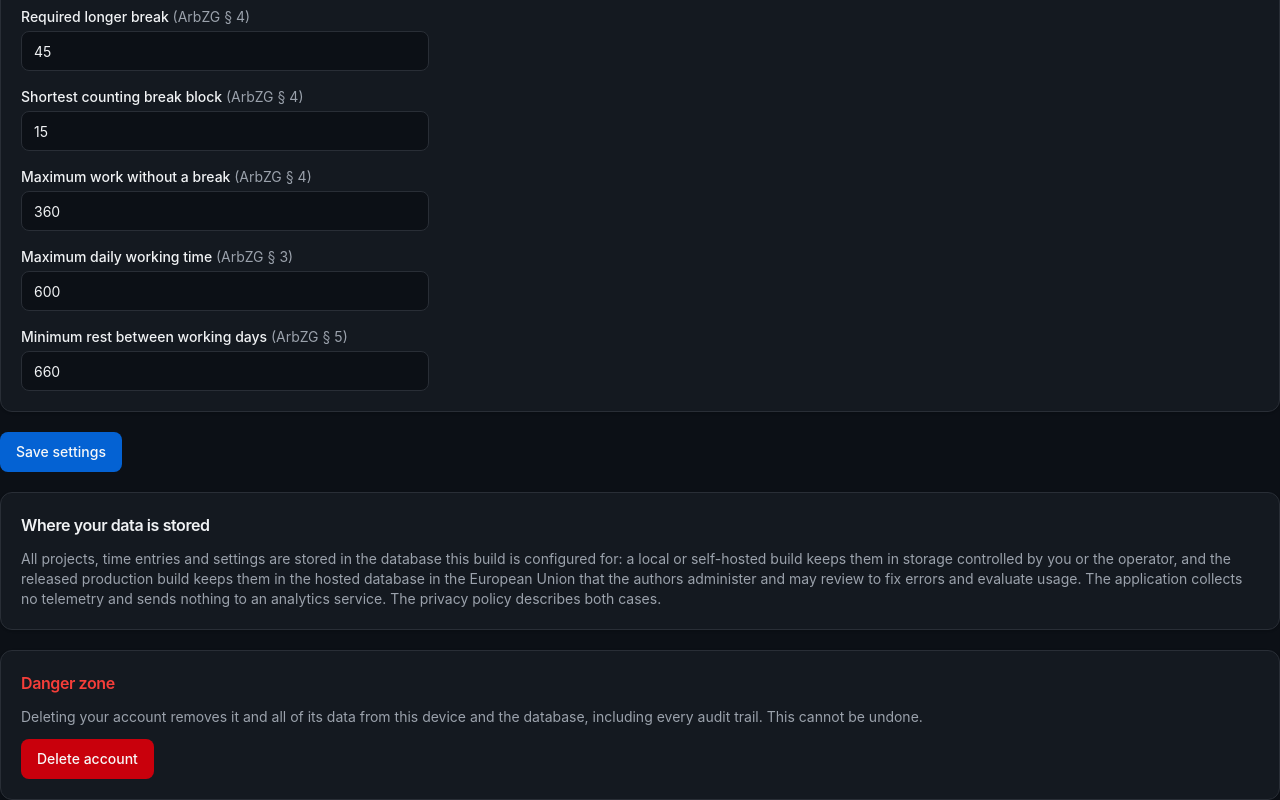
it: SettingsPage – danger zone › deletes nothing when the dialog is closed
(page scrolled)
Click the button "Delete account" at (87, 759), box [21, 739, 154, 779]
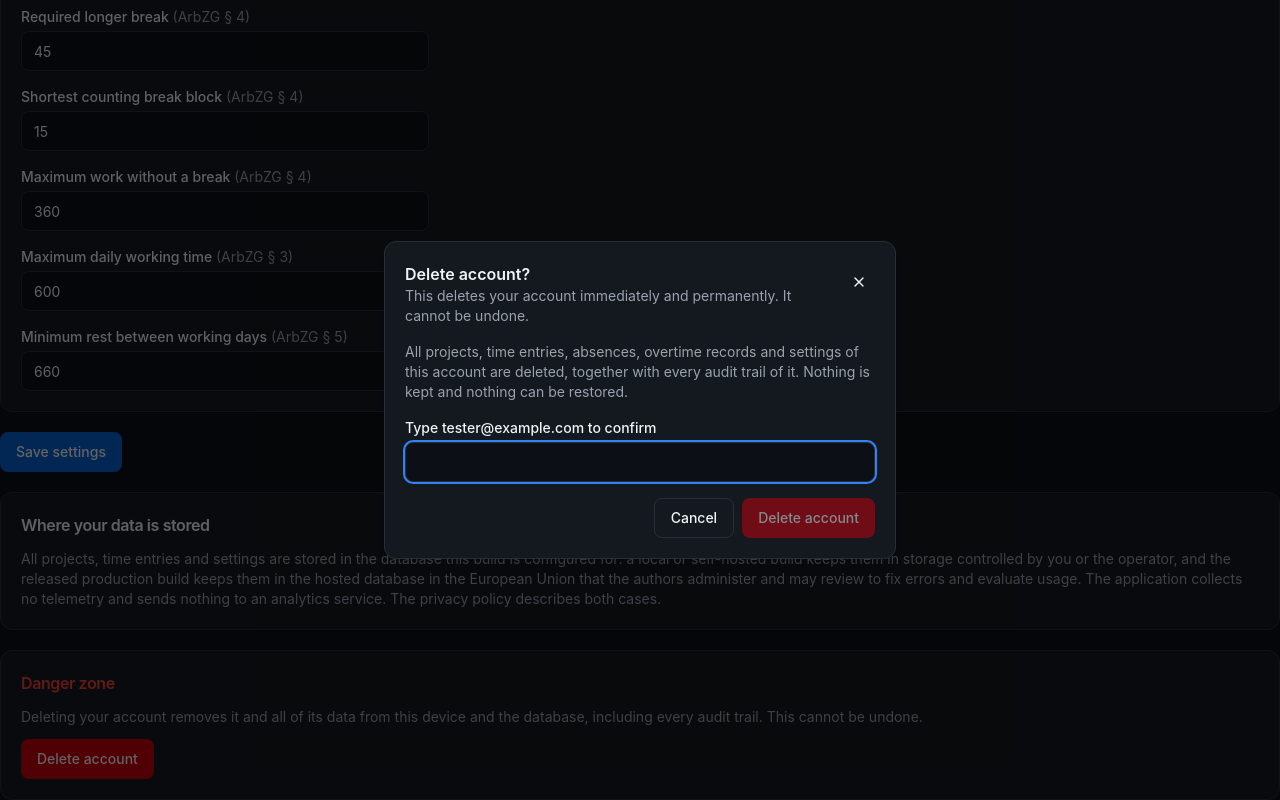
Type "tester@example.com" into the field labelled "Type tester@example.com to confirm" at (640, 462), box [405, 442, 875, 482]
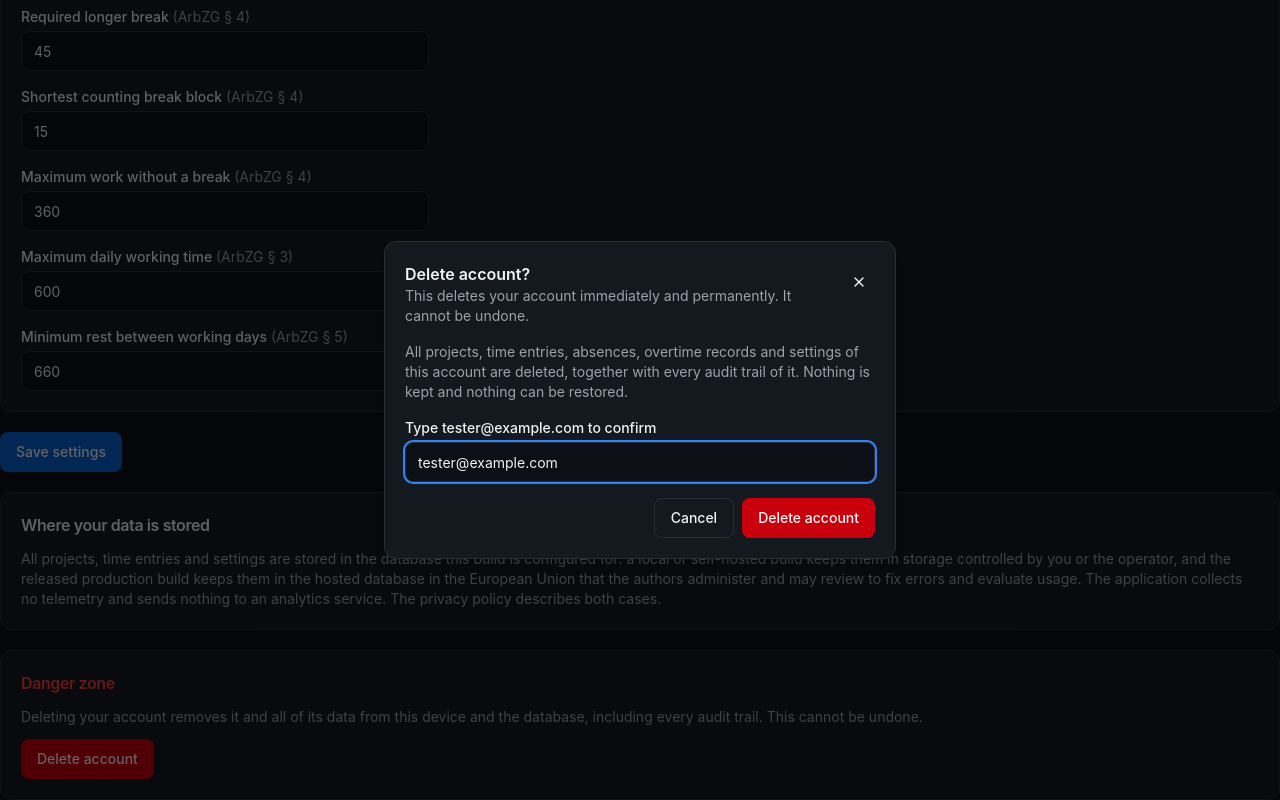
Click the button named "Close dialog" at (859, 282), box [842, 262, 875, 302]
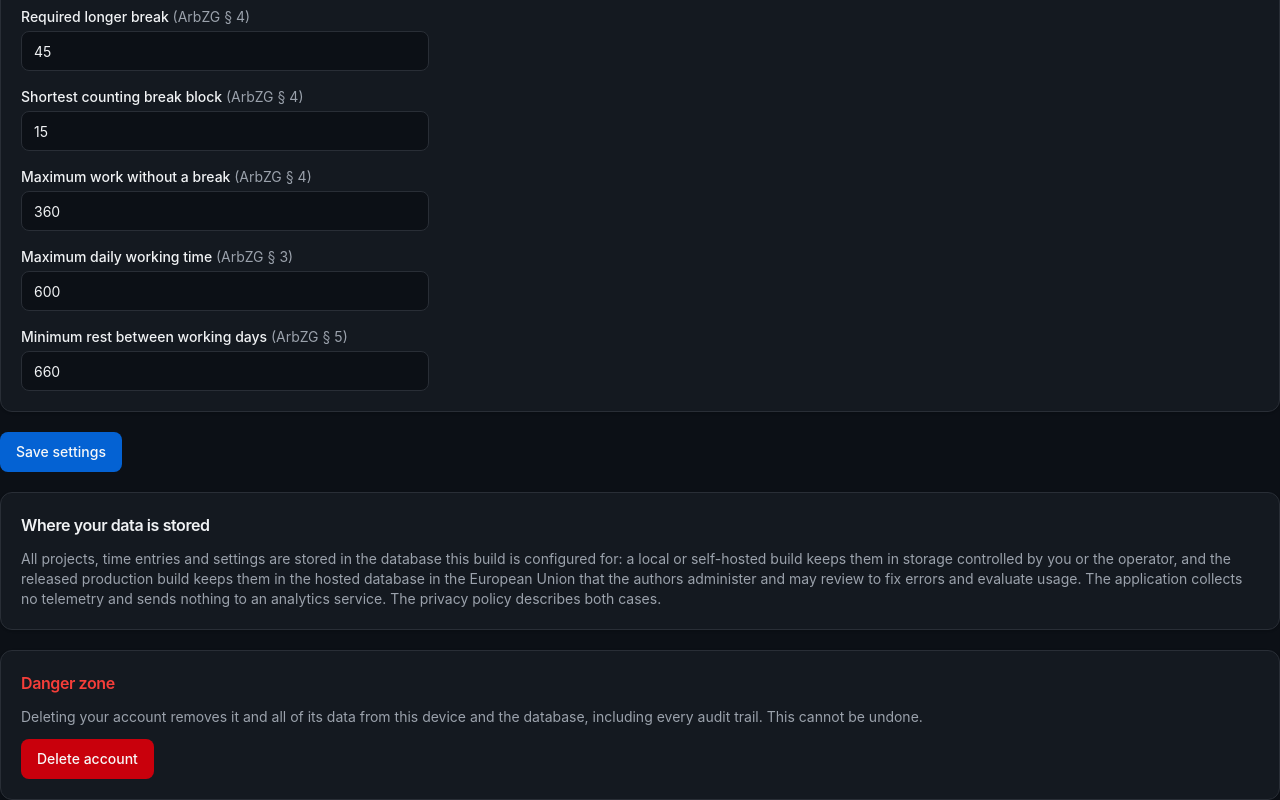
Expected: the dialog is gone
